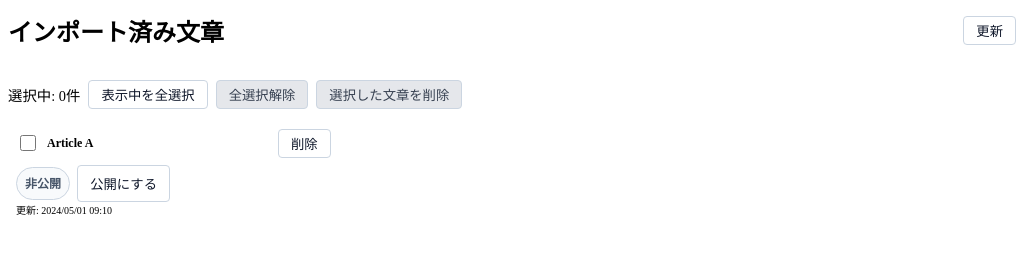
Scenario: ArticleListPanel › lets authenticated users toggle Reader article guest public visibility
The image size is (1024, 256).
Expected: the text "Article A" is shown, [47,136,93,150]
Click the button "公開にする" at point(124, 183), box [77,165,170,202]
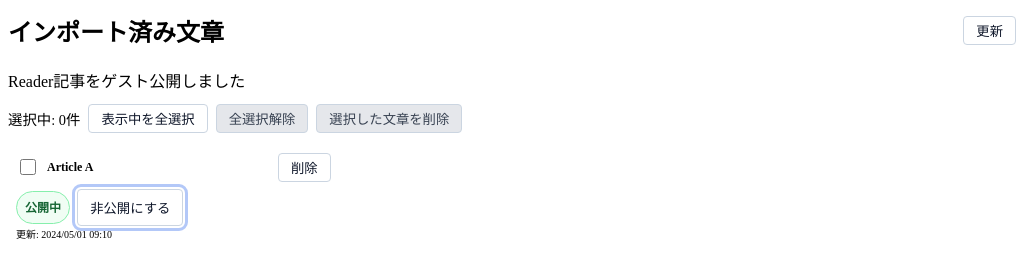
Result: the text "Reader記事をゲスト公開しました" is shown at [8,73,245,90]
